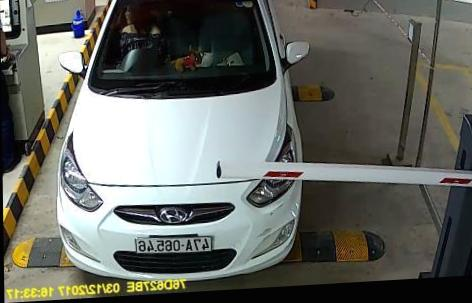License_Plate: (133, 231, 213, 257)
